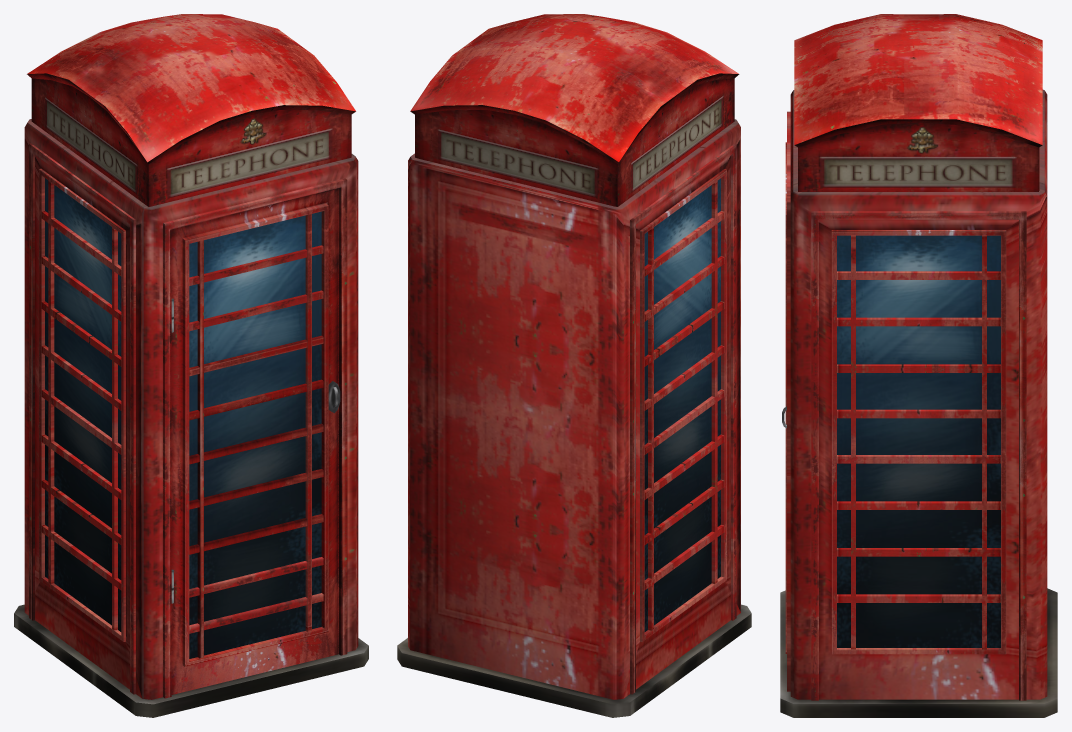
The model's file is phone_box.fbx.
3 views of the same model, side by side, from view 1: azimuth 30°, elevation 25°; view 2: azimuth 150°, elevation 25°; view 3: azimuth 270°, elevation 25° (orthographic). The views are drawn at different scales.
Parts seen in each view (by area): view 1: Mesh Object; view 2: Mesh Object; view 3: Mesh Object.
Boxes of the visible parts, <box> form: Mesh Object: <box>14,14,368,717</box>; Mesh Object: <box>397,14,751,717</box>; Mesh Object: <box>780,14,1057,717</box>.
Bounding box in the file's own units: 1.08 × 2.67 × 1.08.
